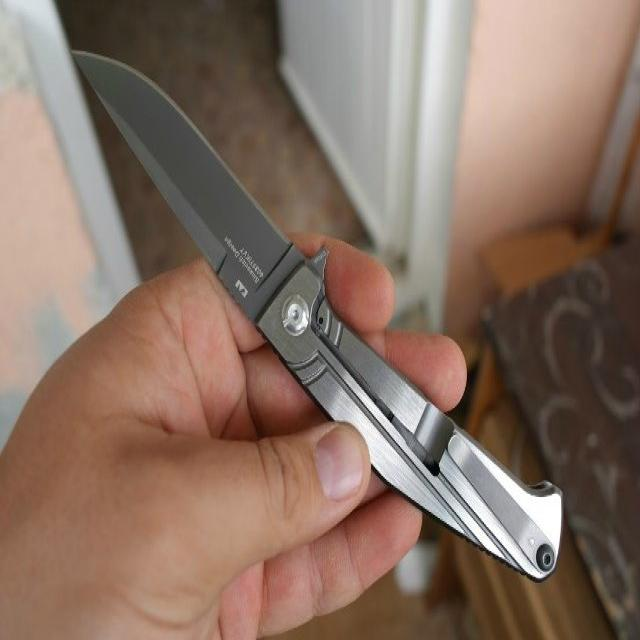knife: (67, 39, 574, 587)
